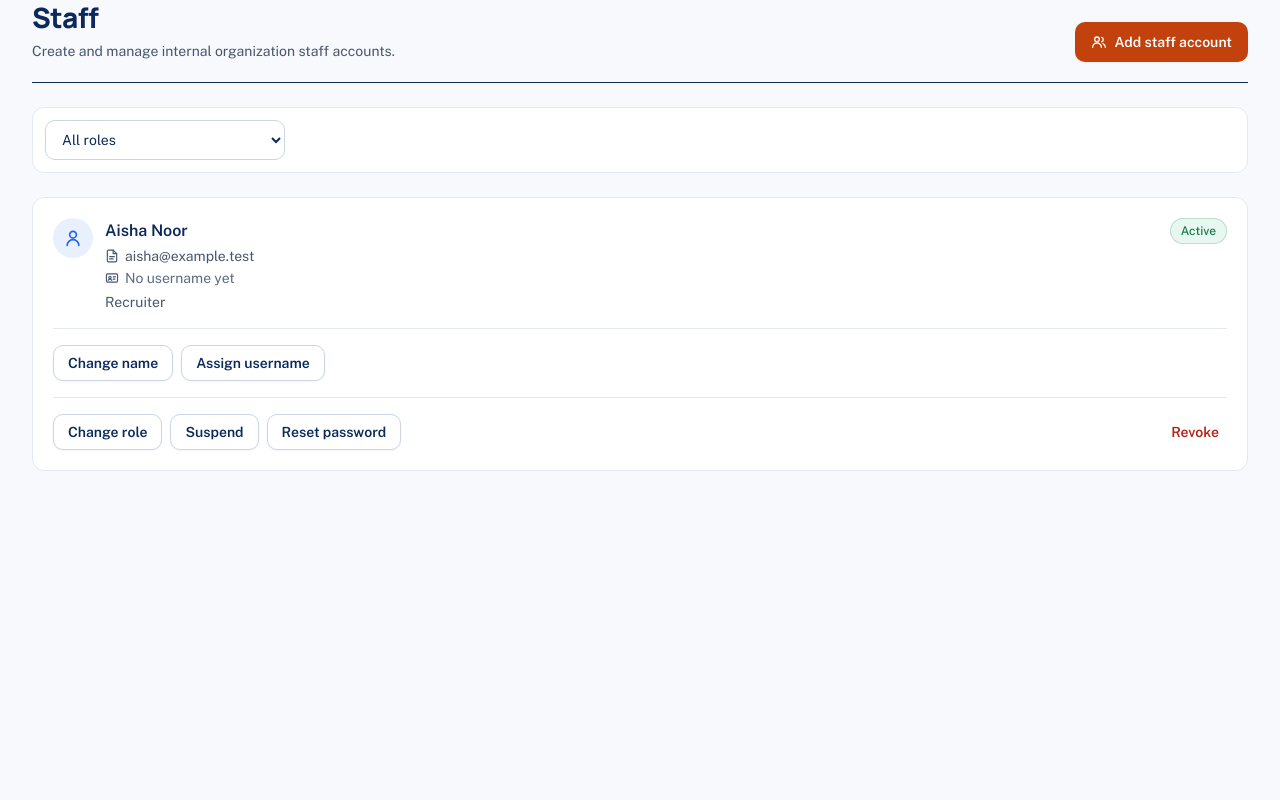
Test: Managed staff identity (Backend Phase B5 / B5.5) › one-time credential surface › falls back to the email for a legacy account that still signs in by email
This screenshot has width=1280, height=800.
Click the button "Reset password": (334, 432) [267,414,401,450]
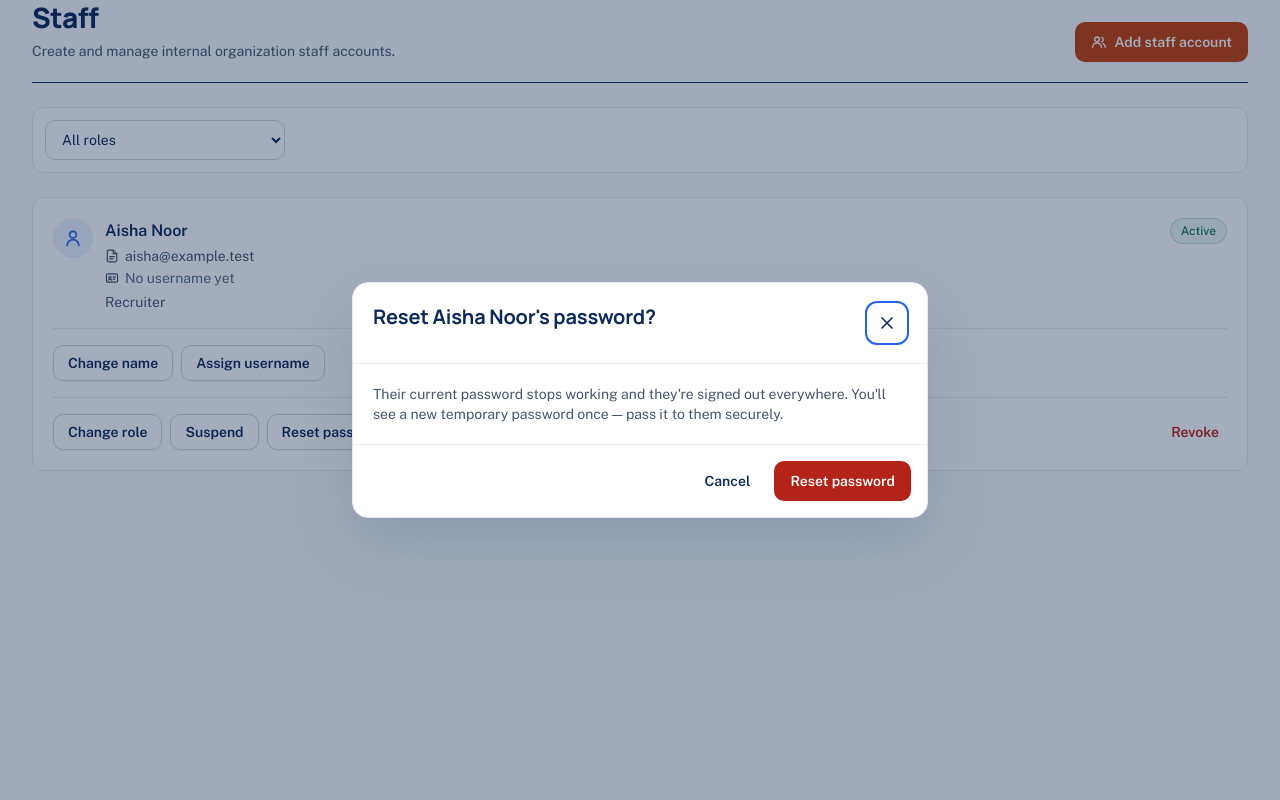
Click the button "Reset password": (843, 481) [774,461,911,501]
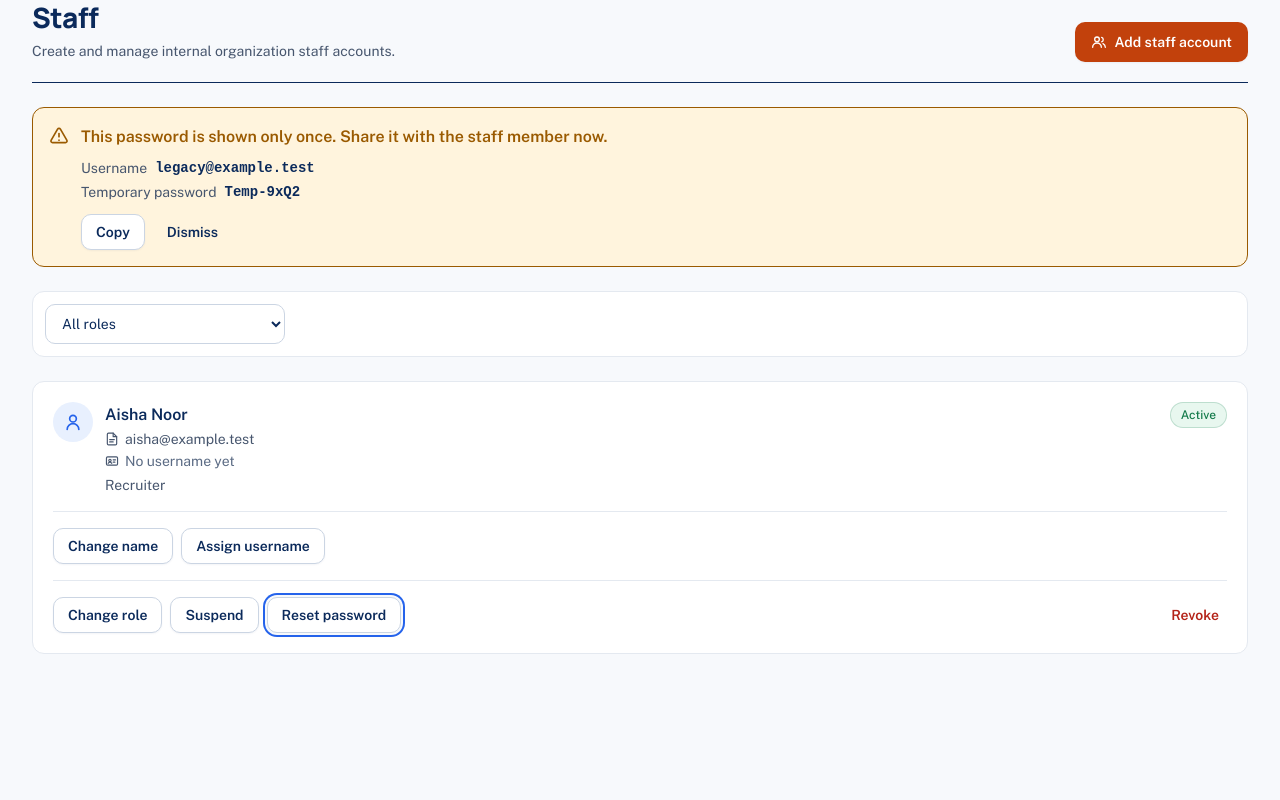
Now the text "legacy@example.test" is shown, box [155,158,315,178]
